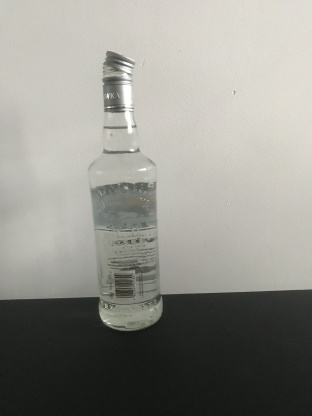nakretka: (100, 47, 137, 112)
